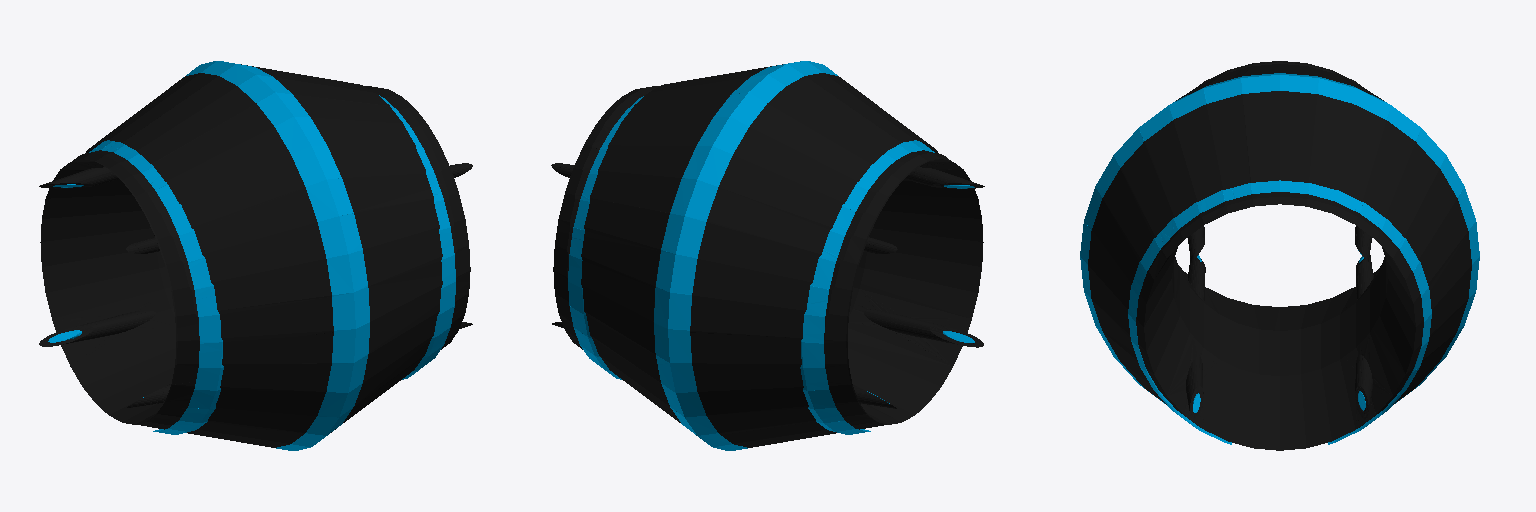
Rendered from tinker.obj.
3 views of the same model, side by side, from view 1: azimuth 30°, elevation 25°; view 2: azimuth 150°, elevation 25°; view 3: azimuth 270°, elevation 25° (orthographic).
Parts seen in each view (by area): view 1: Object.2, Object.1; view 2: Object.2, Object.1; view 3: Object.2, Object.1.
Boxes of the visible parts, <box> form: Object.2: <box>73,61,470,450</box>; Object.1: <box>39,159,472,424</box>; Object.2: <box>553,61,950,450</box>; Object.1: <box>551,159,984,424</box>; Object.2: <box>1080,61,1479,450</box>; Object.1: <box>1144,61,1415,450</box>.
Size of the model in its own units: 1 by 1 by 1.